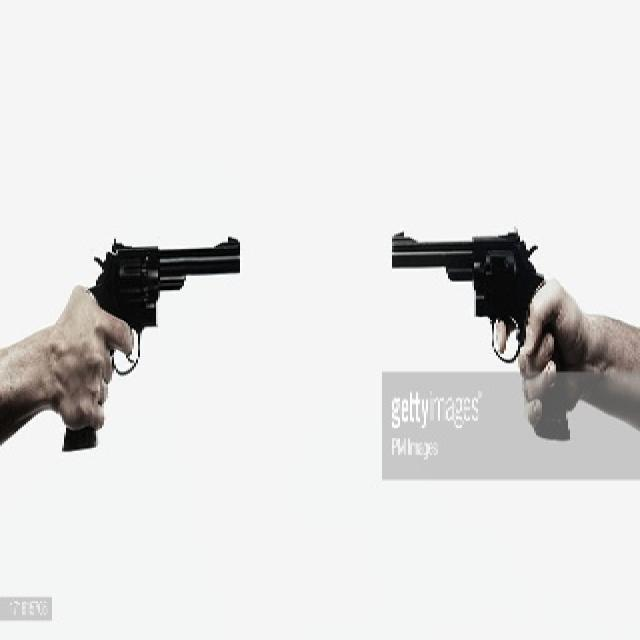handgun: (381, 227, 585, 446), (57, 233, 247, 453)
